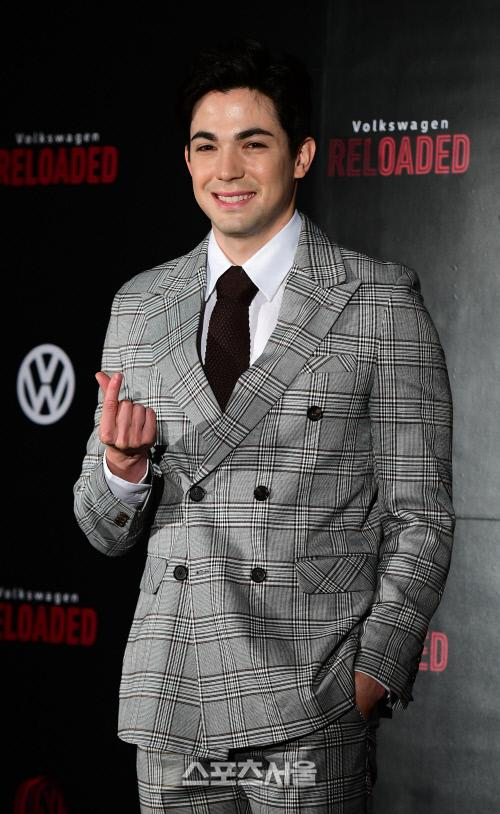heart gesture: (90, 369, 126, 400)
